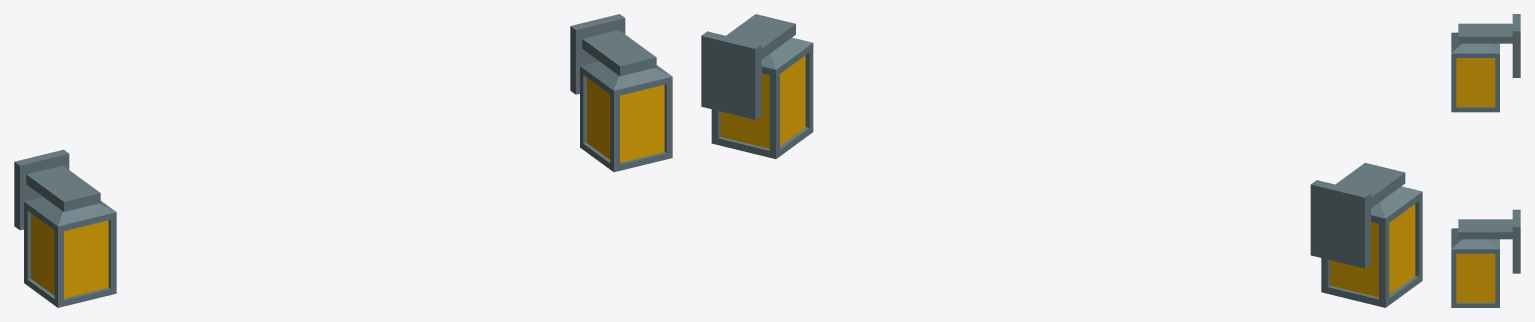
File: DoorwayLights01.fbx
3 views of the same model, side by side, from view 1: azimuth 30°, elevation 25°; view 2: azimuth 150°, elevation 25°; view 3: azimuth 270°, elevation 25° (orthographic). The views are drawn at different scales.
Visible parts, largest first — view 1: DoorwayLights01; view 2: DoorwayLights01; view 3: DoorwayLights01.
Part boxes in pixels (x1,y1,x2,y2): DoorwayLights01: [14, 14, 672, 307]; DoorwayLights01: [701, 14, 1422, 307]; DoorwayLights01: [1451, 14, 1520, 307].
Bounding box in the file's own units: 99.5 × 17 × 13.51.
